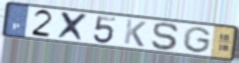2: (31, 9, 56, 39)
5: (91, 15, 118, 44)
G: (180, 26, 213, 54)
K: (122, 18, 149, 49)
S: (150, 21, 181, 52)
X: (56, 10, 92, 43)
